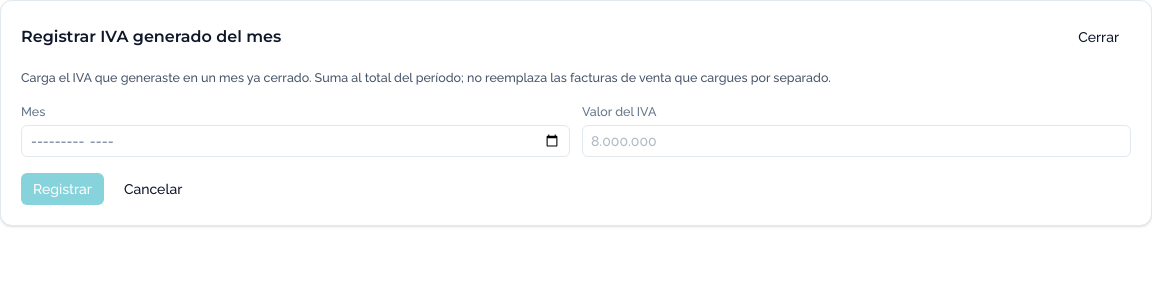
Test: IvaGeneradoPanel › muestra el error del backend y NO avisa al padre si falla (p. ej. duplicado)
Type "2026-07" into the field labelled "Mes" at (296, 141), box x1=21 y1=125 x2=570 y2=157
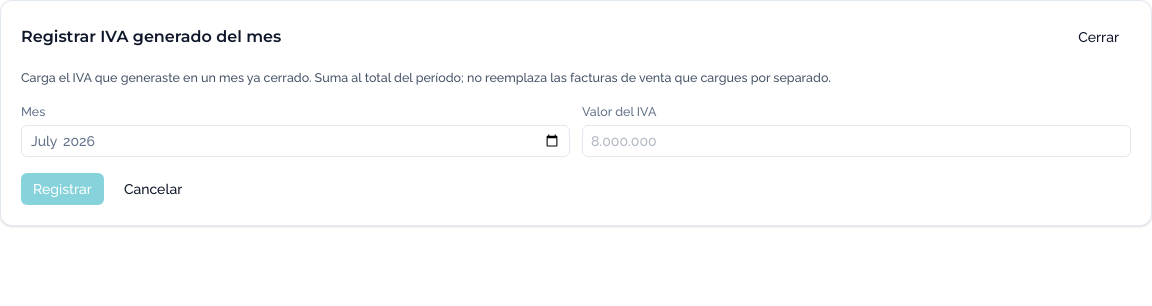
Type "8000000" into the field labelled "Valor del IVA" at (856, 141), box x1=582 y1=125 x2=1131 y2=157
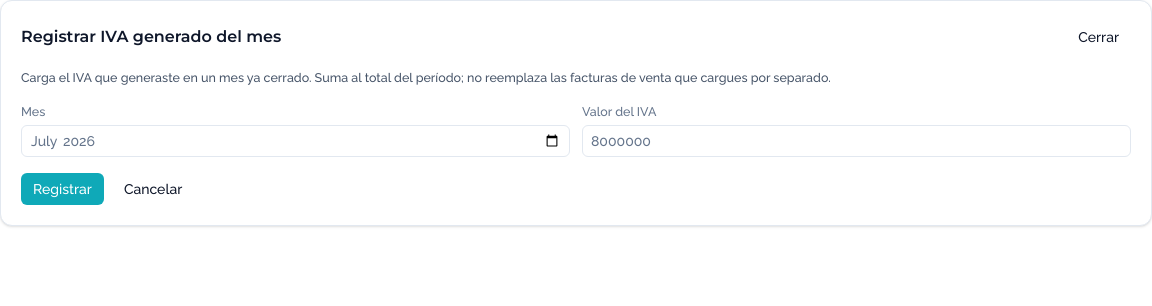
Click the button "Registrar" at (62, 189), box x1=21 y1=173 x2=104 y2=205
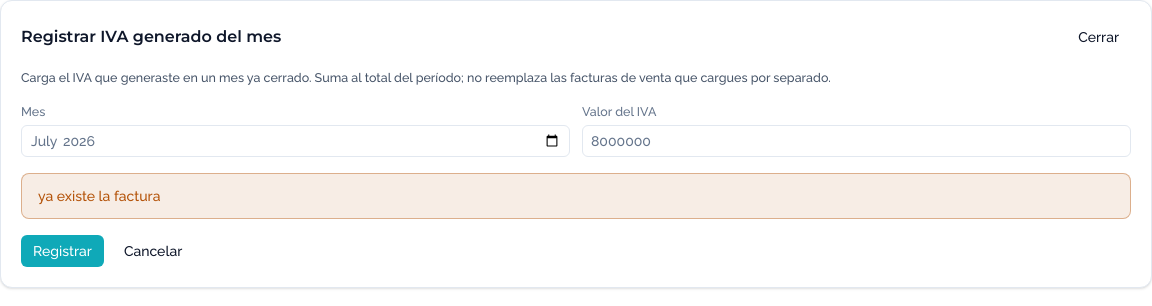
Expected: the text "ya existe la factura" is shown, x1=21 y1=173 x2=1131 y2=219
